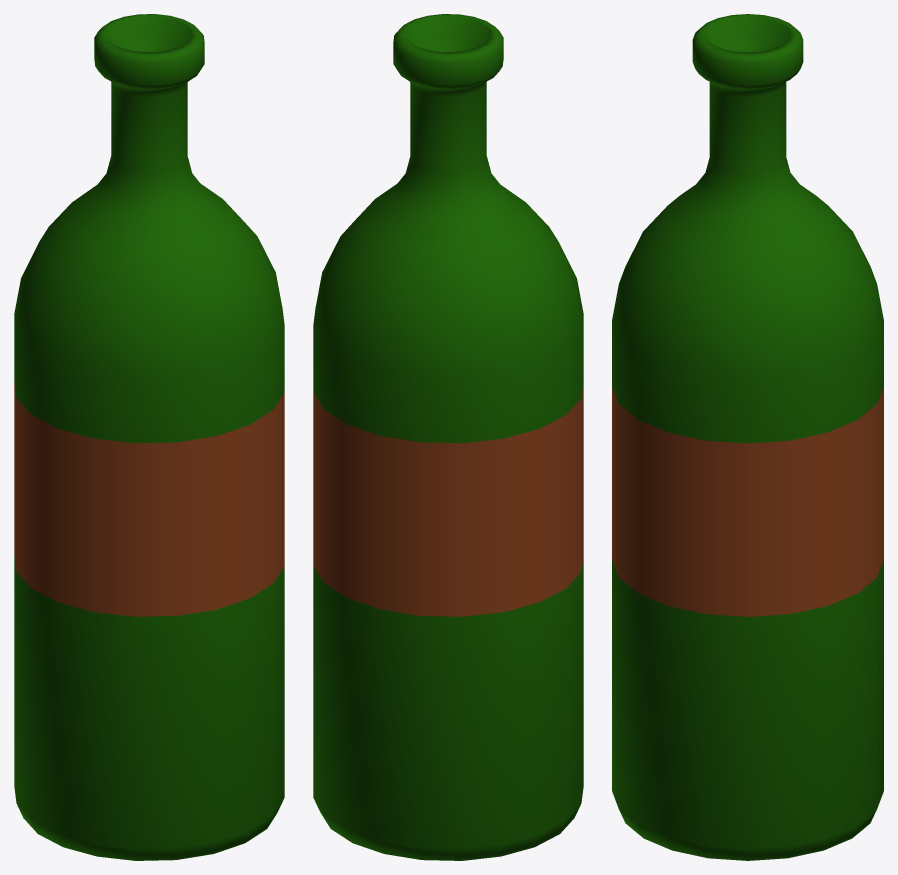
The model's file is Wine.fbx.
3 renders of one model, left to right at view 1: azimuth 30°, elevation 25°; view 2: azimuth 150°, elevation 25°; view 3: azimuth 270°, elevation 25°, orthographic.
Parts seen in each view (by area): view 1: Circle; view 2: Circle; view 3: Circle.
Boxes of the visible parts, bbox=[...] form: Circle: bbox=[14, 14, 284, 860]; Circle: bbox=[313, 14, 583, 860]; Circle: bbox=[612, 14, 883, 860].
Bounding box in the file's own units: 200 × 632 × 200.
